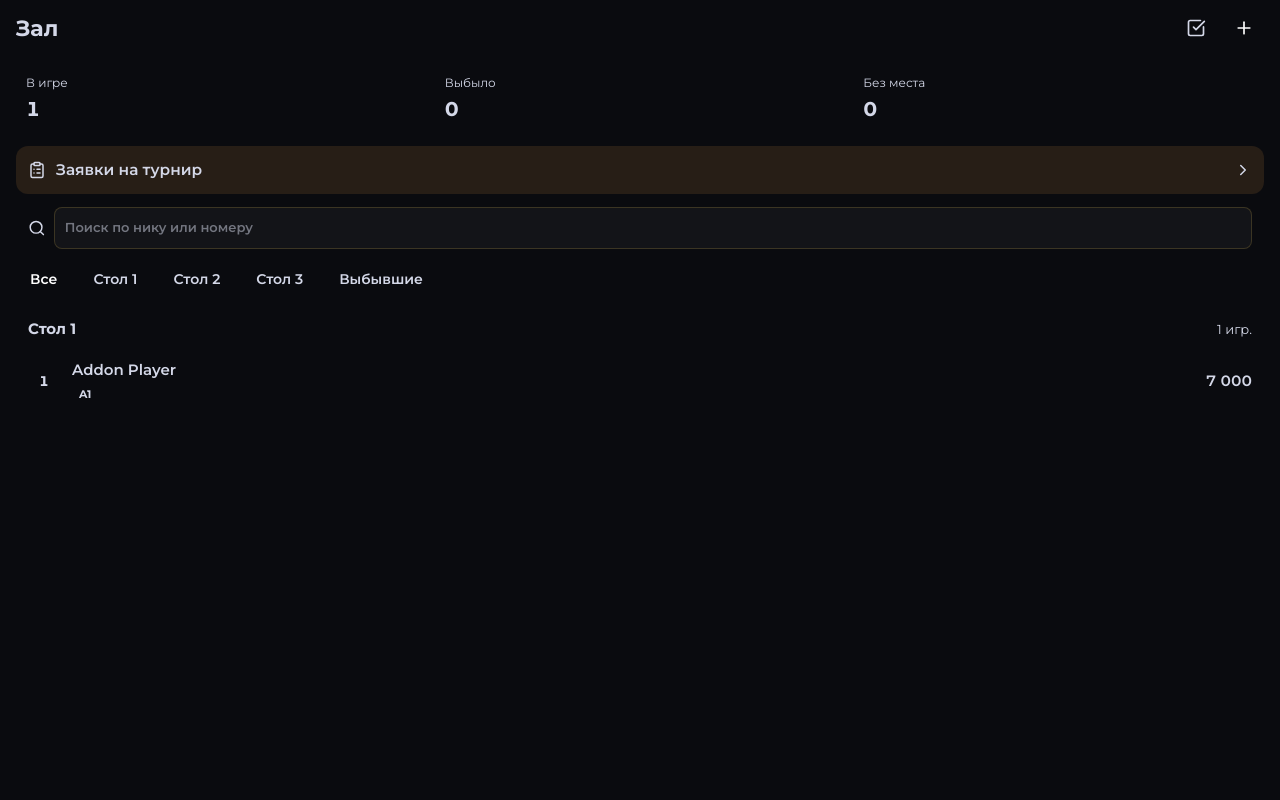
Test: TMAPlayersPage › shows how many players the player knocked out in a bounty game
The width and height of the screenshot is (1280, 800).
Step 1. Click the button "1 Addon Player A1 7 000" → click(124, 369), box x1=16 y1=350 x2=1264 y2=412
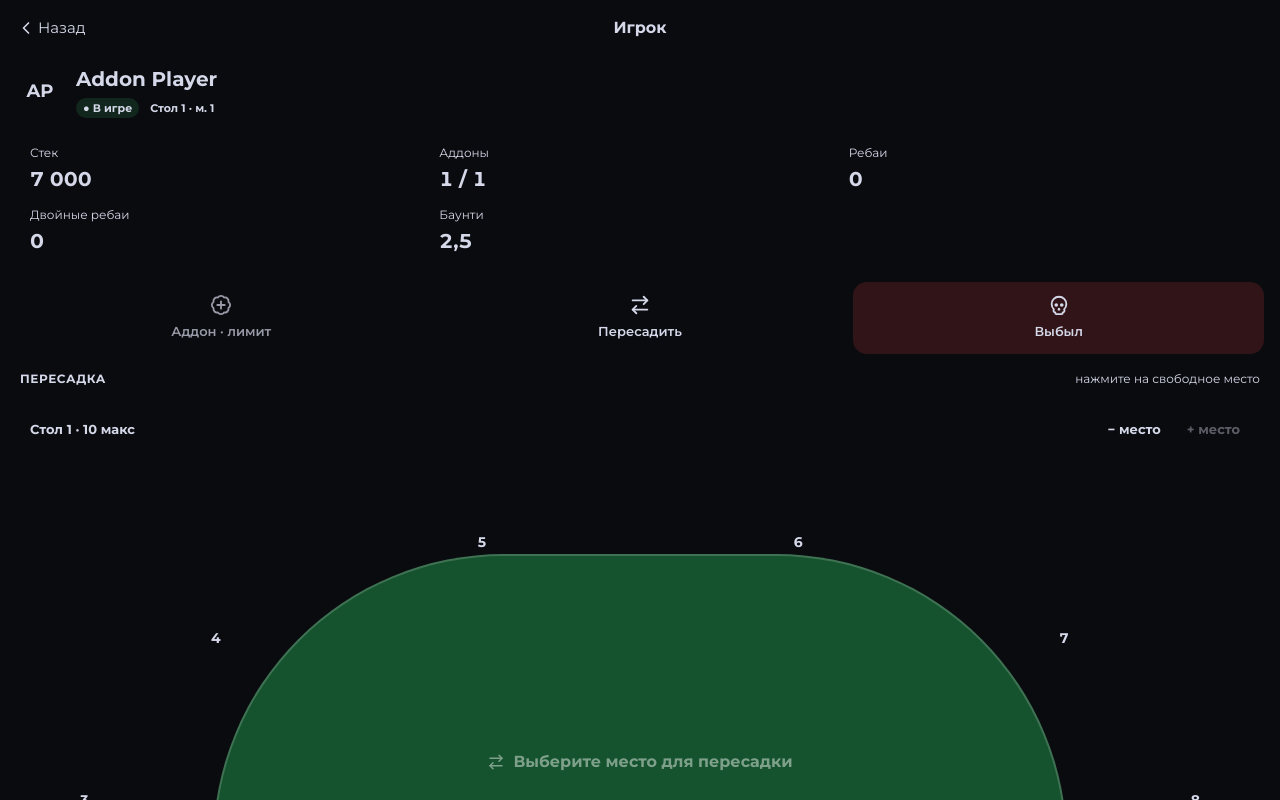
Expected: the text "2,5" is shown, x1=439 y1=229 x2=473 y2=253
